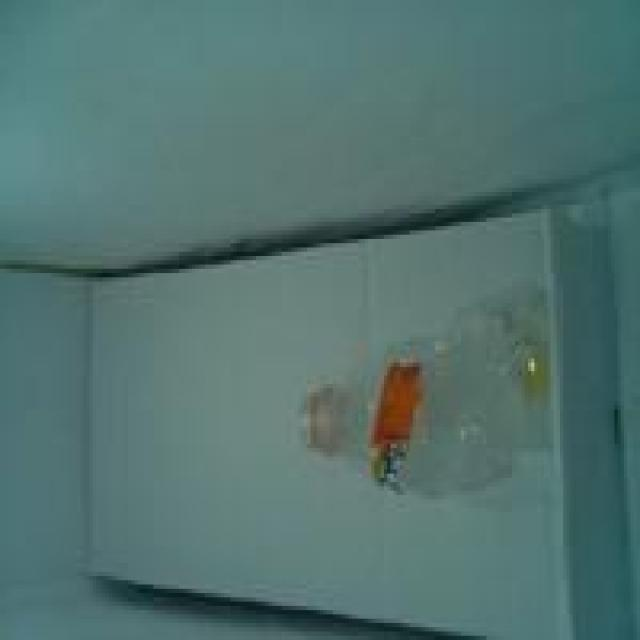bottle: (274, 292, 588, 522)
